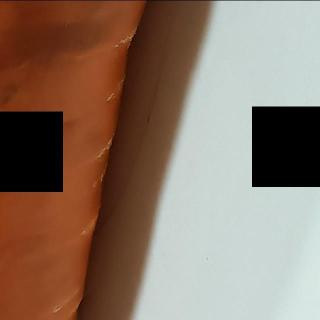carrot: (0, 0, 175, 320)
